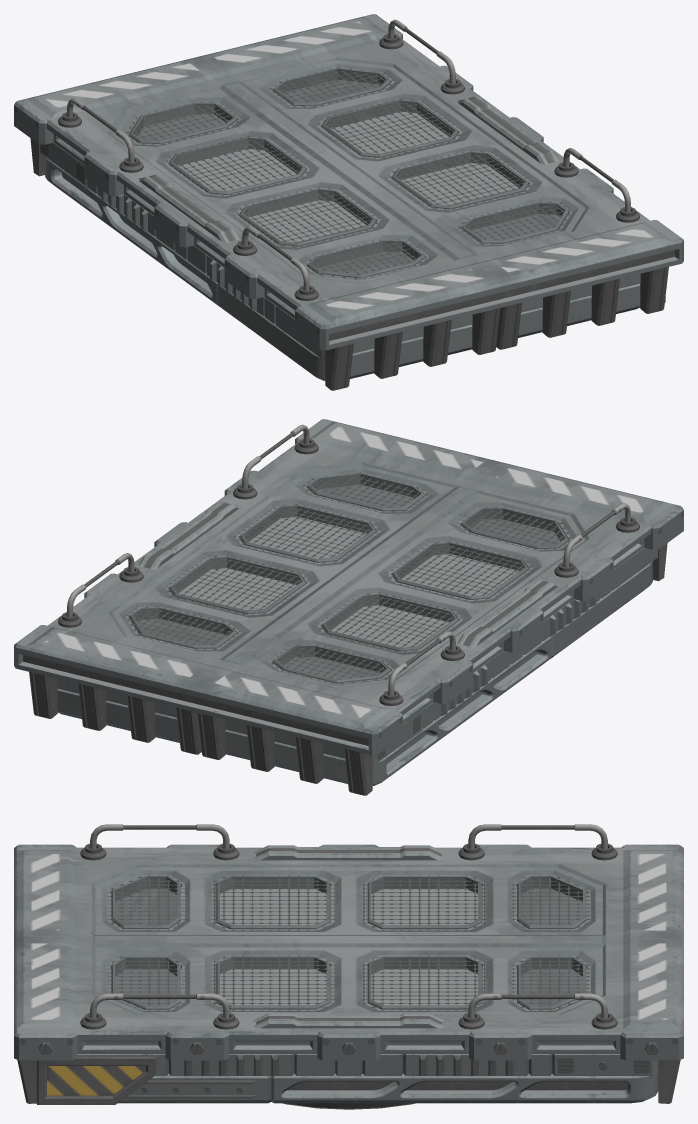
The model's file is Platform1done.fbx.
3 renders of one model, top to bottom at view 1: azimuth 30°, elevation 25°; view 2: azimuth 150°, elevation 25°; view 3: azimuth 270°, elevation 25°, orthographic. The views are drawn at different scales.
Visible parts, largest first — view 1: Cylinder.007; view 2: Cylinder.007; view 3: Cylinder.007.
Part boxes in pixels (bbox=[...]): Cylinder.007: bbox=[14, 14, 683, 390]; Cylinder.007: bbox=[14, 419, 683, 795]; Cylinder.007: bbox=[14, 824, 683, 1109].
Size of the model in its own units: 205 by 65.17 by 300.
